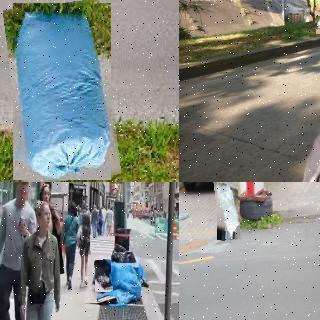Garbage: (8, 0, 116, 182), (215, 182, 239, 240), (110, 261, 144, 299), (95, 260, 112, 292), (112, 244, 128, 264), (123, 250, 137, 265)
